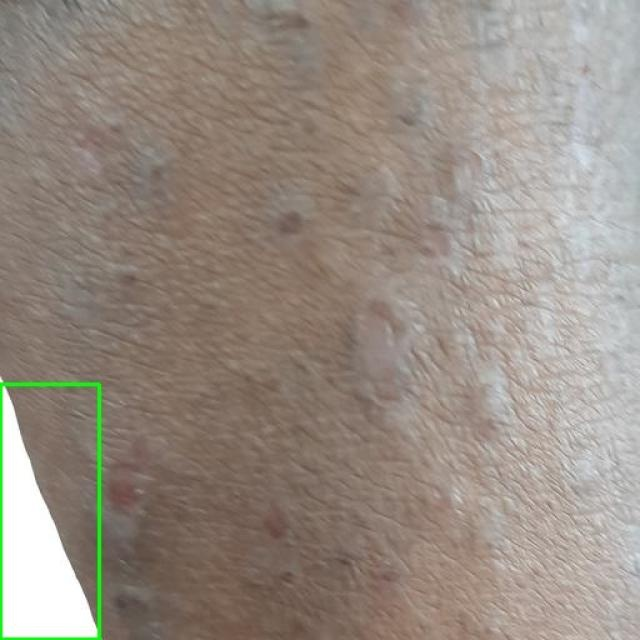Atopic Dermatitis: (0, 384, 99, 639)
